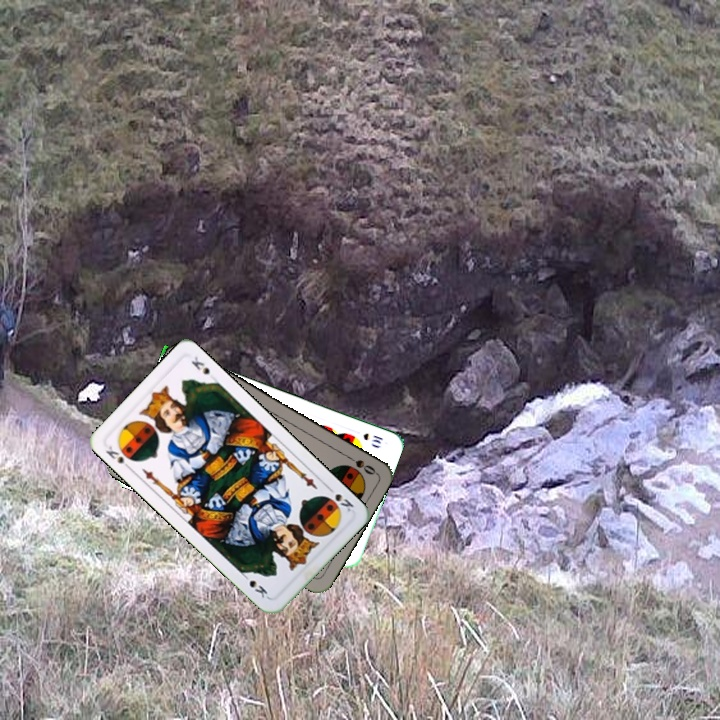S10: (359, 429, 386, 446)
SK: (320, 482, 356, 514), (101, 442, 134, 473)
SO: (341, 450, 379, 477)
